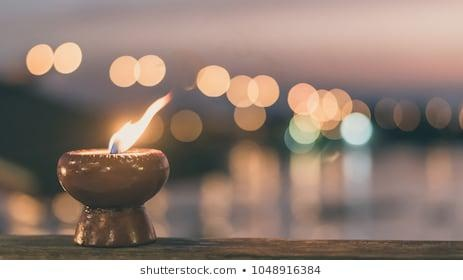fire: (104, 94, 168, 155)
